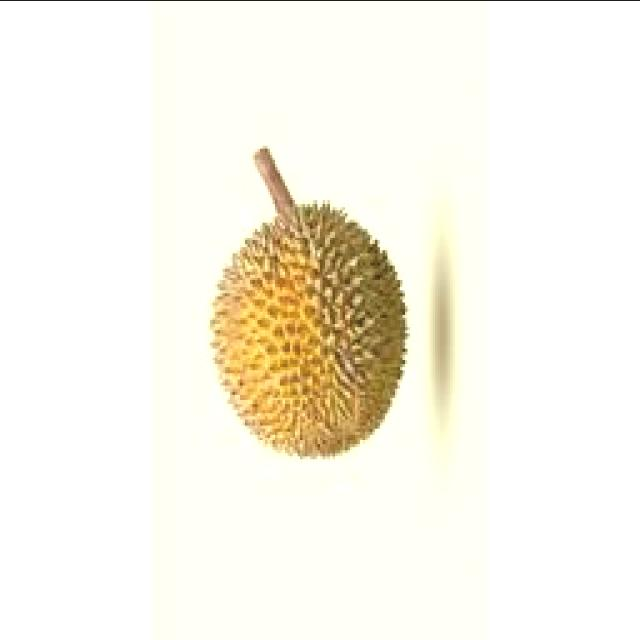non_orange: (192, 188, 418, 464)
